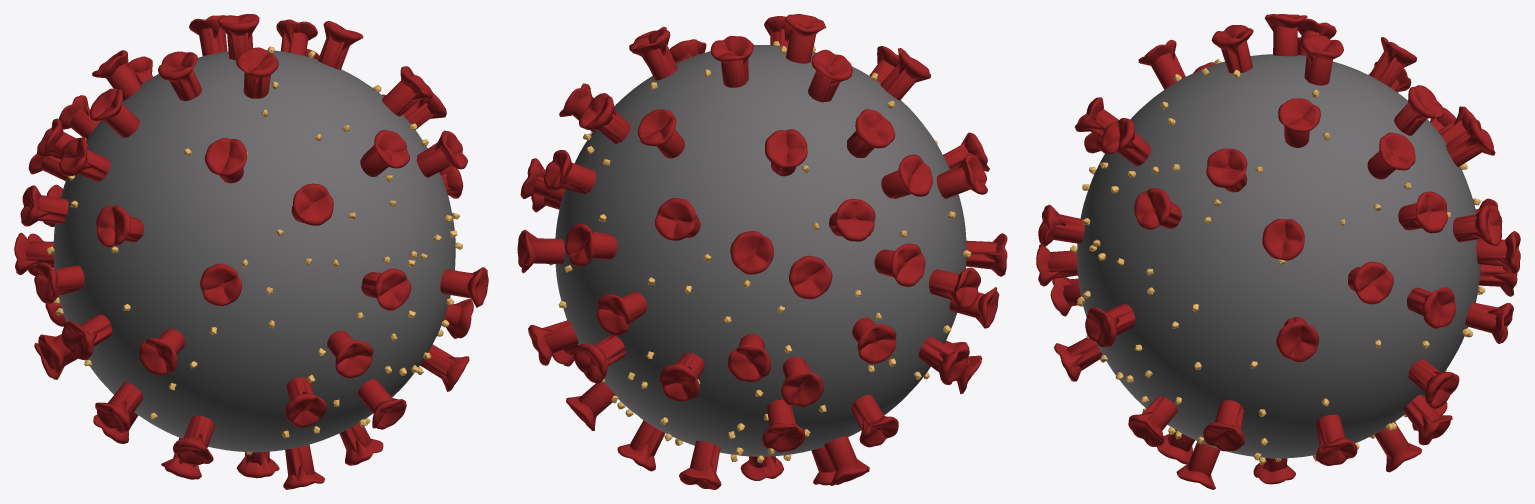
File: Virus-transformed.glb
The picture shows the model from 3 angles, left to right: view 1: azimuth 30°, elevation 25°; view 2: azimuth 150°, elevation 25°; view 3: azimuth 270°, elevation 25°; orthographic projection. The views are drawn at different scales.
Parts seen in each view (by area): view 1: Sphere, Spike, Yellows; view 2: Sphere, Spike, Yellows; view 3: Sphere, Spike, Yellows.
Part boxes in pixels (x1,y1,x2,y2): Sphere: [53, 50, 455, 452]; Spike: [14, 14, 488, 489]; Yellows: [47, 46, 462, 455]; Sphere: [555, 45, 966, 456]; Spike: [517, 14, 1007, 489]; Yellows: [549, 41, 971, 463]; Sphere: [1077, 54, 1480, 458]; Spike: [1036, 14, 1520, 489]; Yellows: [1070, 59, 1485, 464].
Size of the model in its own units: 0.0024 by 0.00239 by 0.0024.
